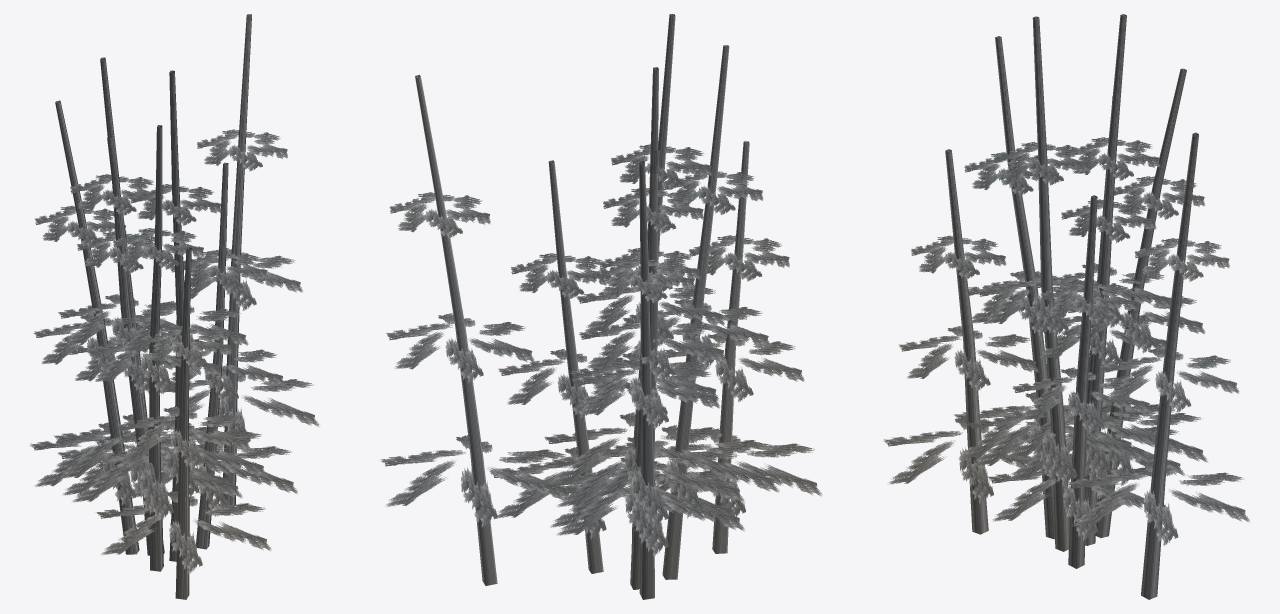
Rendered from horsetail_l0.gltf.
3 renders of one model, left to right at view 1: azimuth 30°, elevation 25°; view 2: azimuth 150°, elevation 25°; view 3: azimuth 270°, elevation 25°, orthographic. The views are drawn at different scales.
Parts seen in each view (by area): view 1: horsetail_l0; view 2: horsetail_l0; view 3: horsetail_l0.
Boxes of the visible parts, box(x1,y1,x2,y2) form: horsetail_l0: box(30, 14, 319, 599); horsetail_l0: box(379, 14, 822, 599); horsetail_l0: box(884, 14, 1249, 599).
Size of the model in its own units: 0.9441 by 1.4 by 0.966.
Materials: 1 (1 with a texture image).
